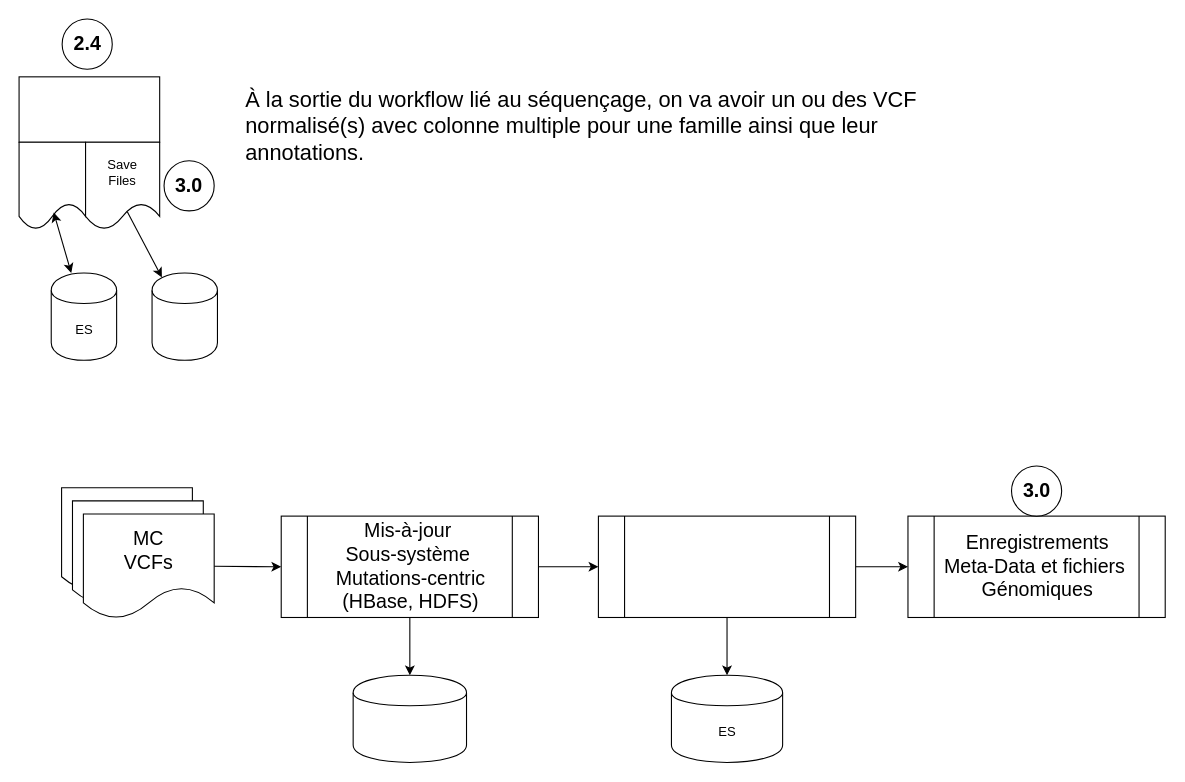
Image size: 1185x782. Some labels were removed from this diagram. Here are the shapes that lost their labels. From the top down, the centre of each, then its label:
pixel 89 109: ETL
pixel 52 185: Indexation
pixel 184 316: Objects Store
pixel 726 566: Création/MAJ Index Variant-Centric ES
pixel 409 718: HBase/HDFS
